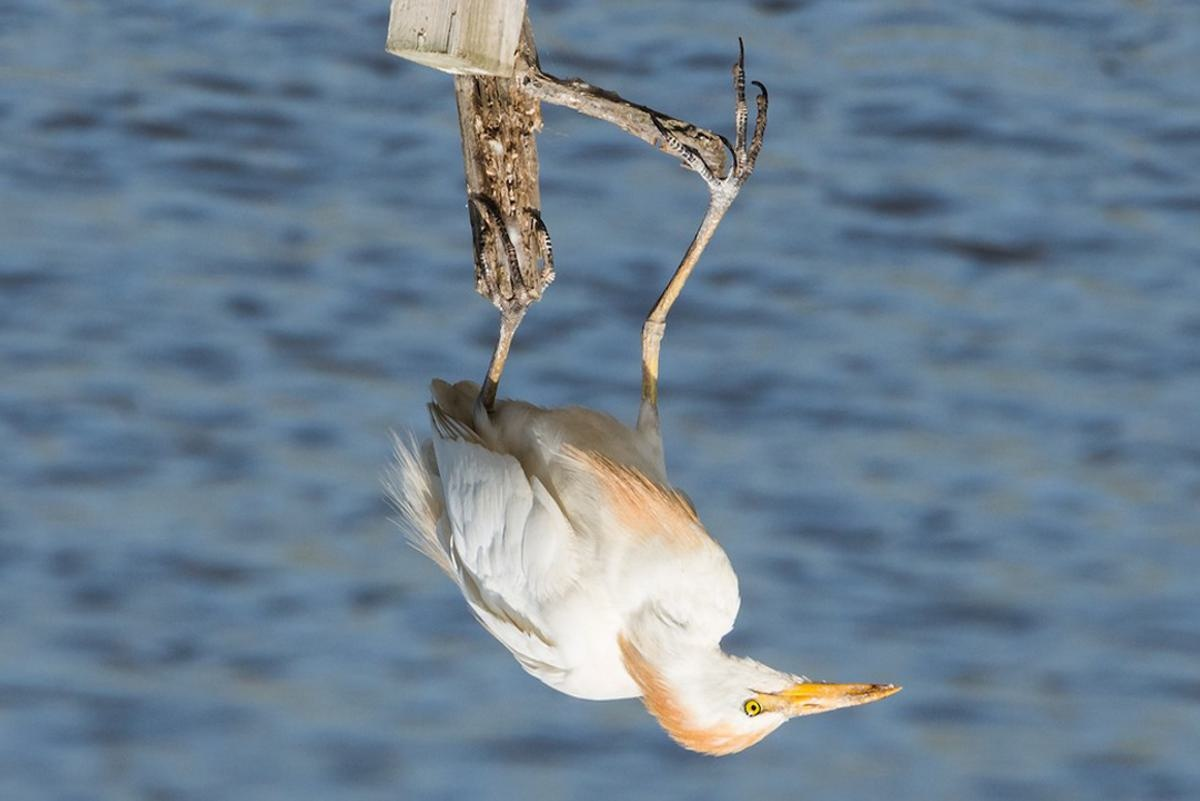egret: (303, 53, 904, 768)
